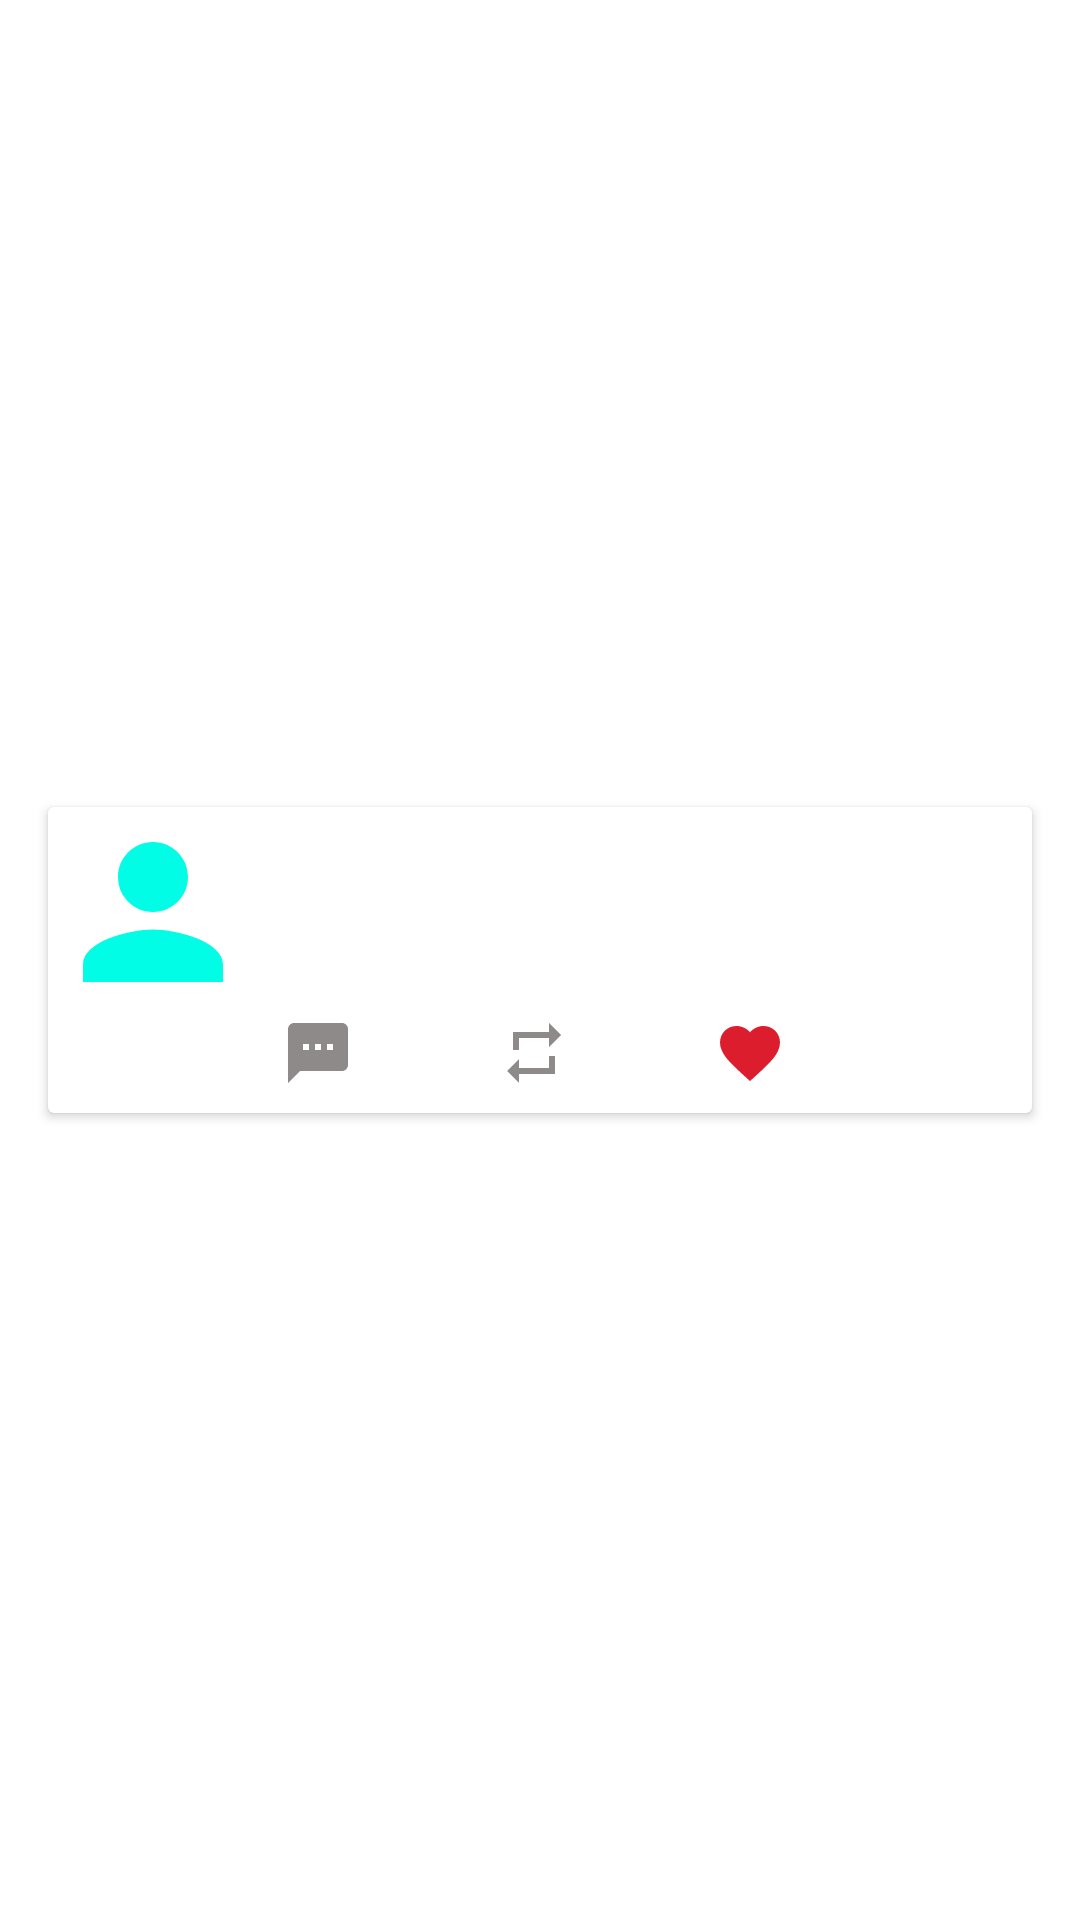

Locate icon controls on the screen. Image size 1080*1920, boxes as {"x1": x1, "y1": y1, "x2": x2, "y2": y2}.
favorite: {"x1": 720, "y1": 1026, "x2": 780, "y2": 1081}
person: {"x1": 83, "y1": 842, "x2": 223, "y2": 982}
repeat: {"x1": 507, "y1": 1023, "x2": 561, "y2": 1083}
textsms: {"x1": 288, "y1": 1023, "x2": 348, "y2": 1083}
